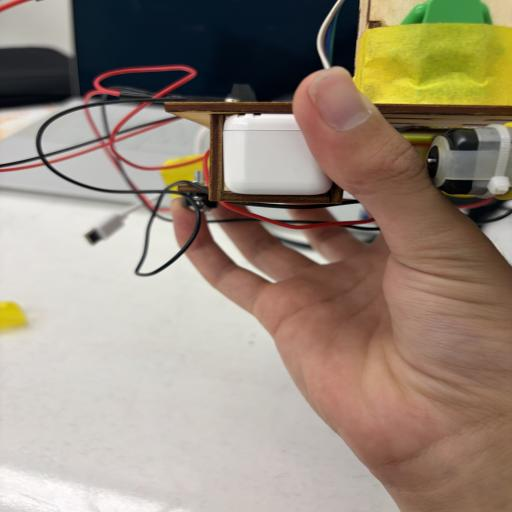Green-Lego: (401, 0, 492, 25)
